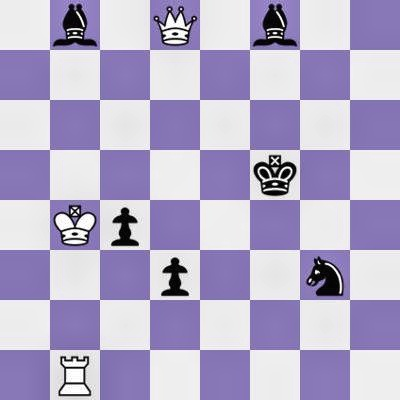black-bishop: (50, 0, 100, 50), (250, 0, 300, 50)
black-king: (250, 150, 300, 200)
black-knight: (300, 250, 350, 300)
black-pawn: (100, 200, 150, 250), (150, 250, 200, 300)
white-king: (50, 200, 100, 250)
white-queen: (150, 0, 200, 50)
white-rook: (50, 350, 100, 400)
